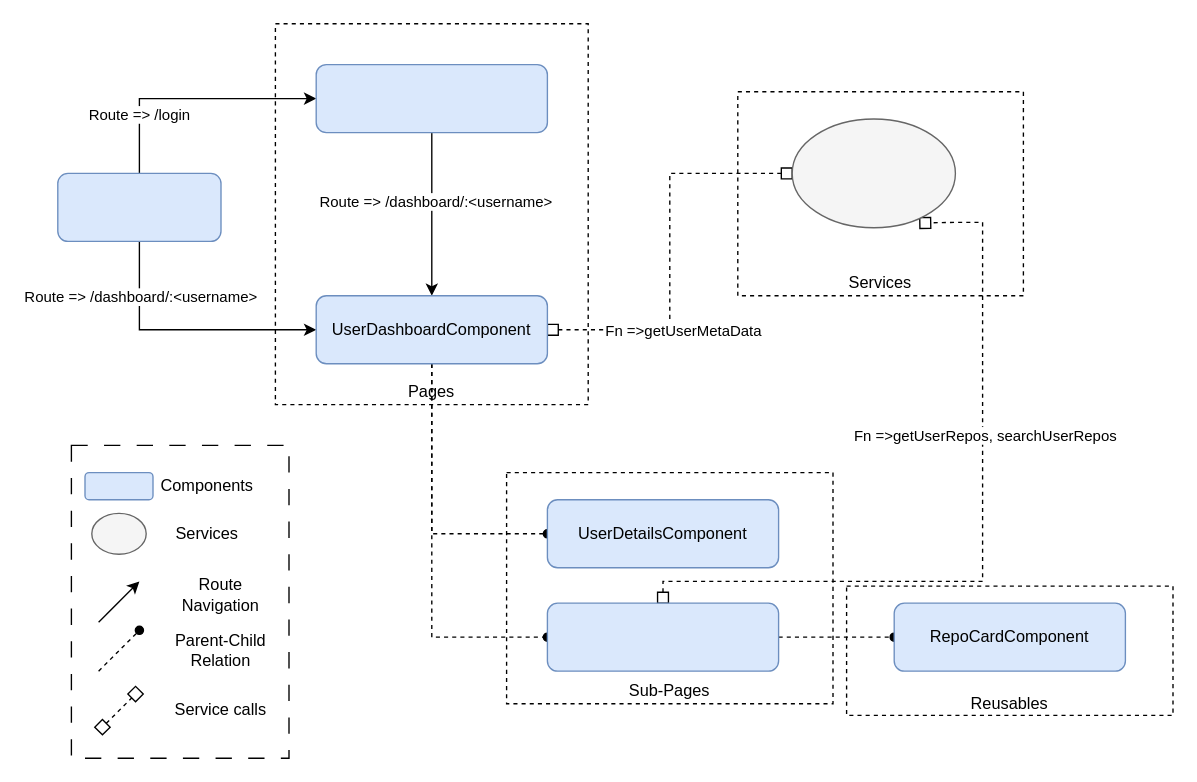
Image size: 1197x782. Some labels were removed from this diagram. Here are the shapes that lost their labels. From the top down, the centre of each, then its label:
At point (431, 98): "LoginComponent".
At point (873, 173): "GithubService".
At point (138, 206): "AppComponent".
At point (662, 636): "RepoListComponent".
